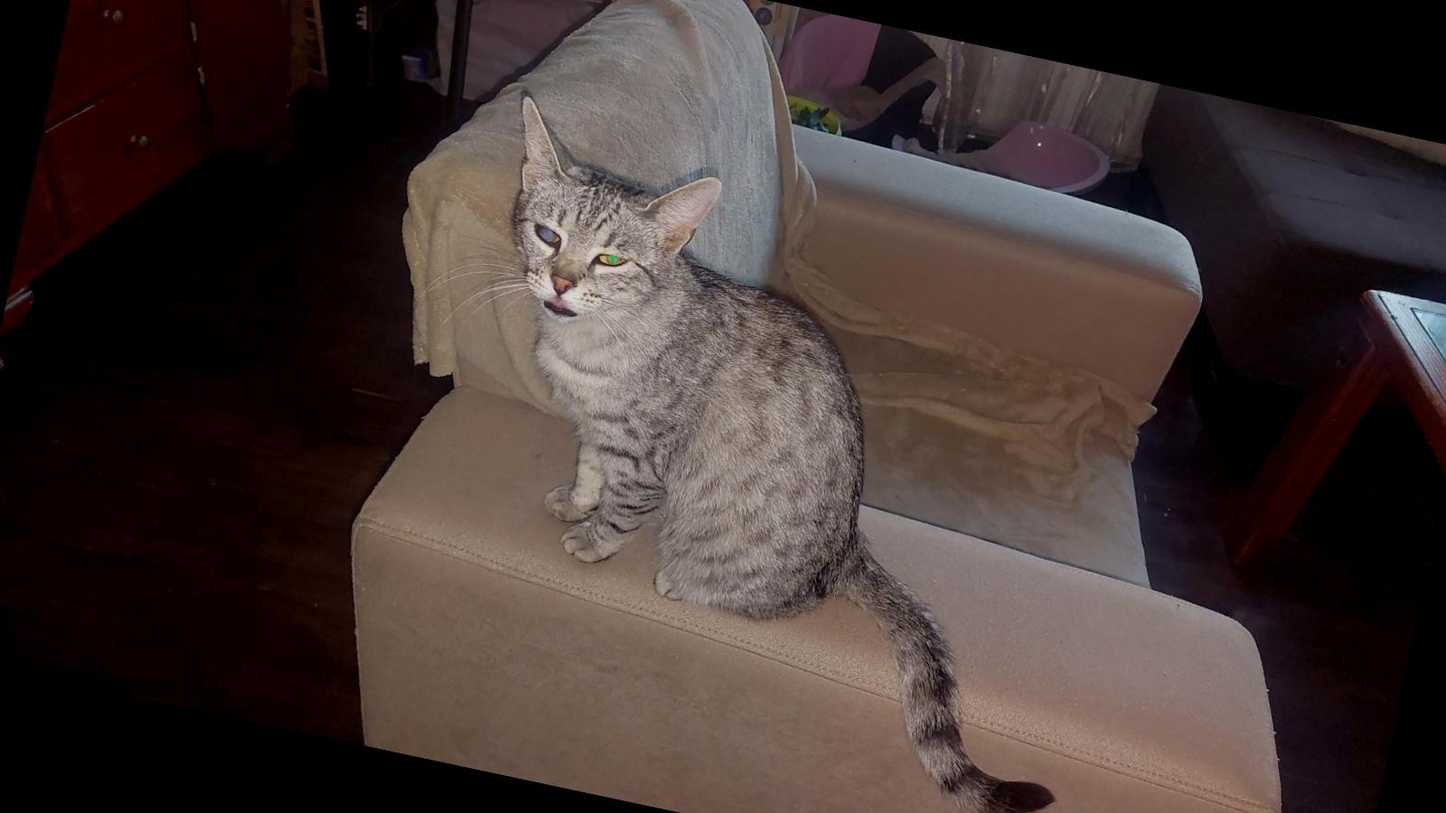macka: (395, 93, 1176, 813)
